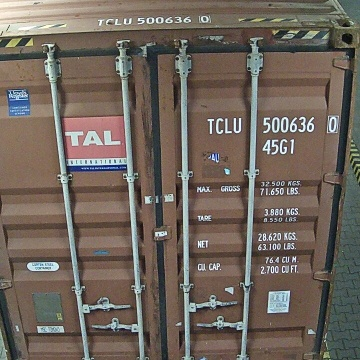serial_id: (208, 115, 338, 133)
